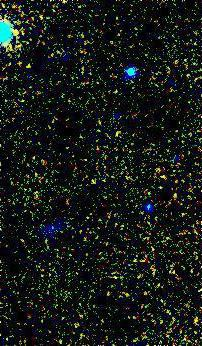star: (0, 15, 30, 45)
